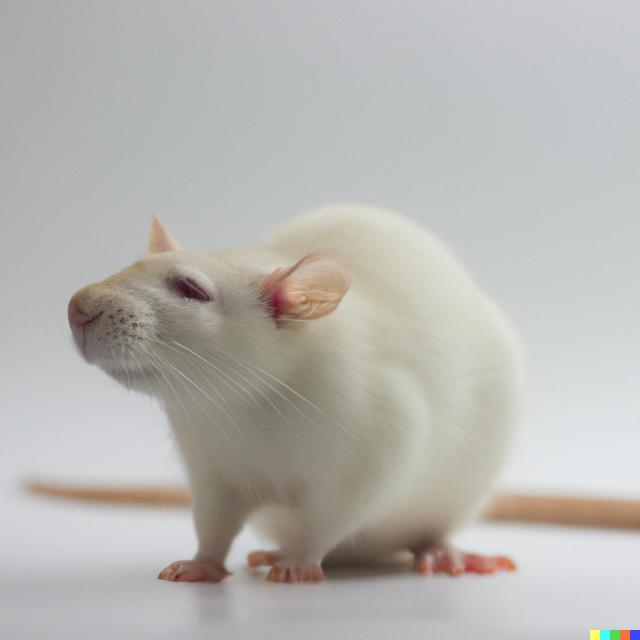rodents: (46, 195, 560, 590)
